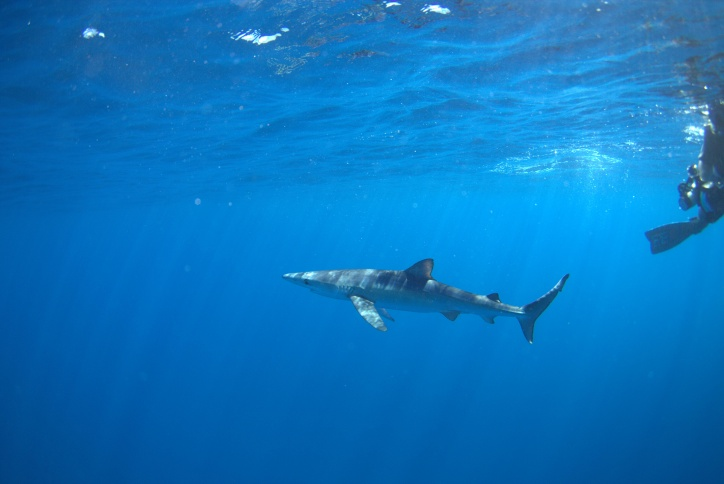Azul: (284, 245, 583, 377)
